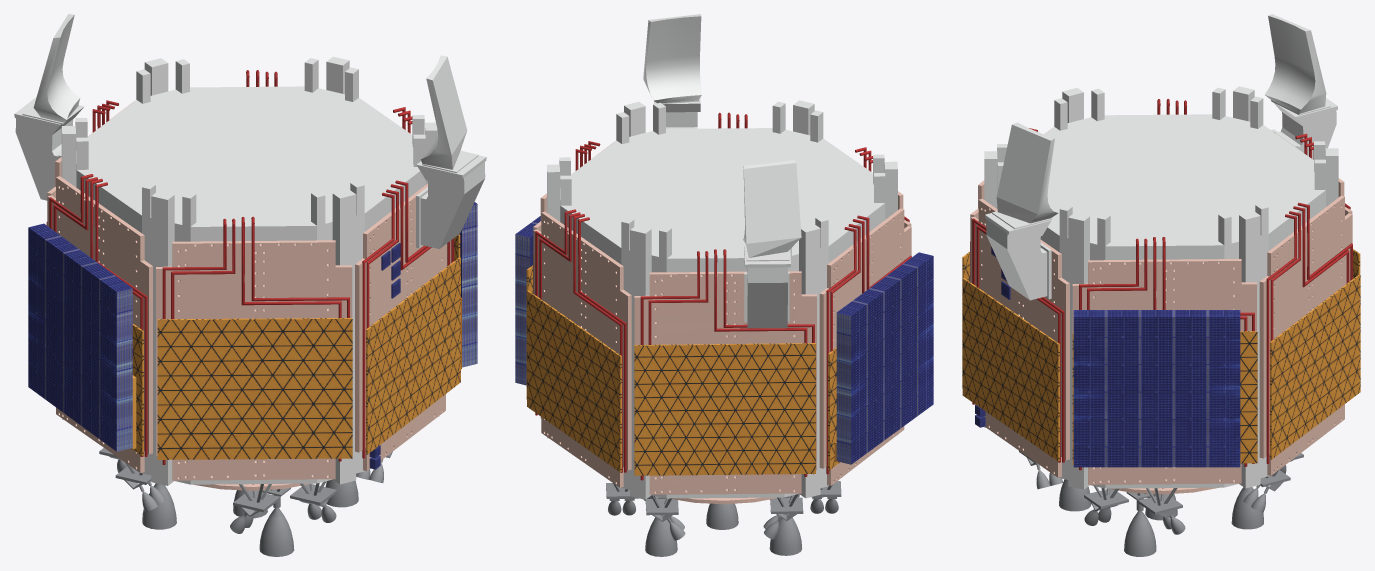
The model's file is Crew Module Bot.fbx.
3 views of the same model, side by side, from view 1: azimuth 30°, elevation 25°; view 2: azimuth 150°, elevation 25°; view 3: azimuth 270°, elevation 25° (orthographic). The views are drawn at different scales.
Visible parts, largest first — view 1: CrewModuleLower; view 2: CrewModuleLower; view 3: CrewModuleLower.
Part boxes in pixels (x1,y1,x2,y2): CrewModuleLower: (14,14,486,556); CrewModuleLower: (515,14,933,556); CrewModuleLower: (962,14,1360,556).
Bounding box in the file's own units: 44.66 × 54.93 × 45.41.
8 materials, 8 textured.
